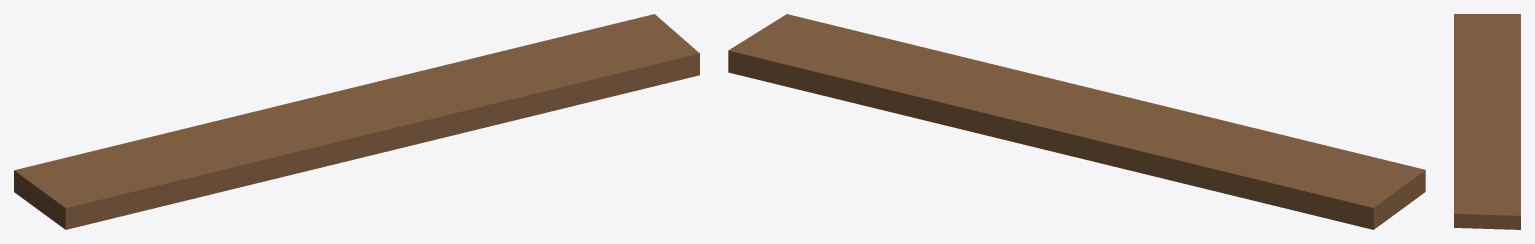
Rendered from WoodPlank_01.glb.
The picture shows the model from 3 angles, left to right: view 1: azimuth 30°, elevation 25°; view 2: azimuth 150°, elevation 25°; view 3: azimuth 270°, elevation 25°; orthographic projection. The views are drawn at different scales.
Visible parts, largest first — view 1: WoodPlank_01; view 2: WoodPlank_01; view 3: WoodPlank_01.
Part boxes in pixels (x1,y1,x2,y2): WoodPlank_01: (14, 14, 699, 229); WoodPlank_01: (728, 14, 1425, 229); WoodPlank_01: (1454, 14, 1520, 229).
Size of the model in its own units: 1.02 by 0.0333 by 0.1432.
1 material, 1 textured.
